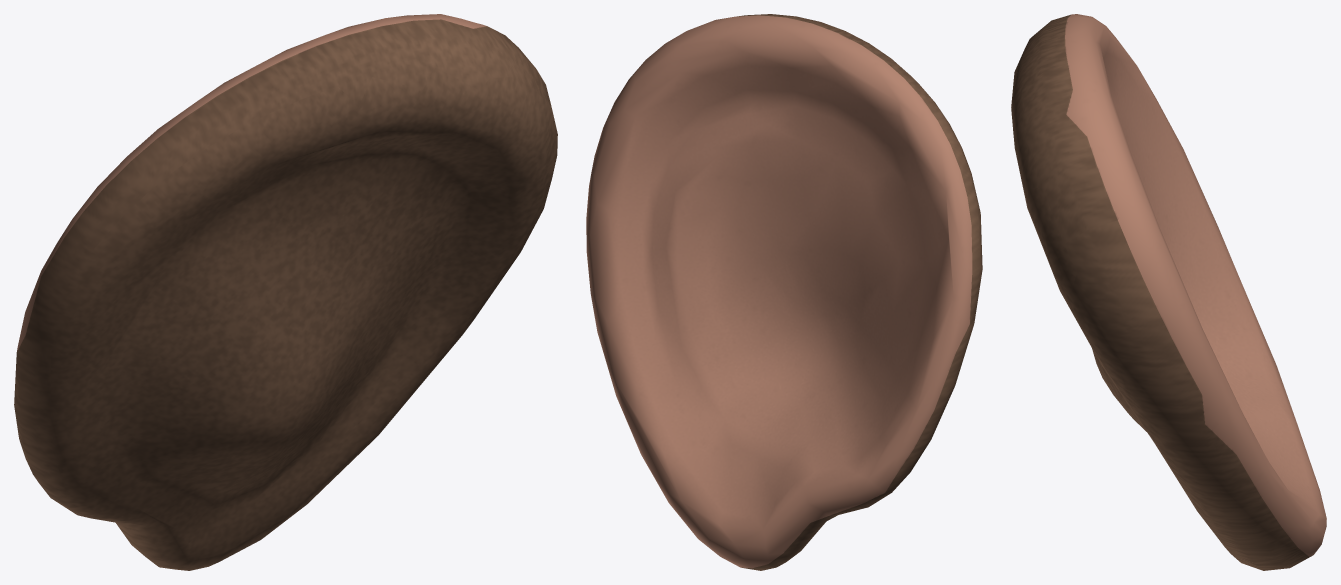
File: cpart_ear_round.glb
3 views of the same model, side by side, from view 1: azimuth 30°, elevation 25°; view 2: azimuth 150°, elevation 25°; view 3: azimuth 270°, elevation 25° (orthographic). The views are drawn at different scales.
Parts seen in each view (by area): view 1: EarRound; view 2: EarRound; view 3: EarRound.
Part boxes in pixels (x1,y1,x2,y2): EarRound: [14, 14, 557, 570]; EarRound: [586, 14, 982, 570]; EarRound: [1011, 14, 1326, 570].
Bounding box in the file's own units: 0.0559 × 0.0649 × 0.0341.
2 materials, 2 textured.
